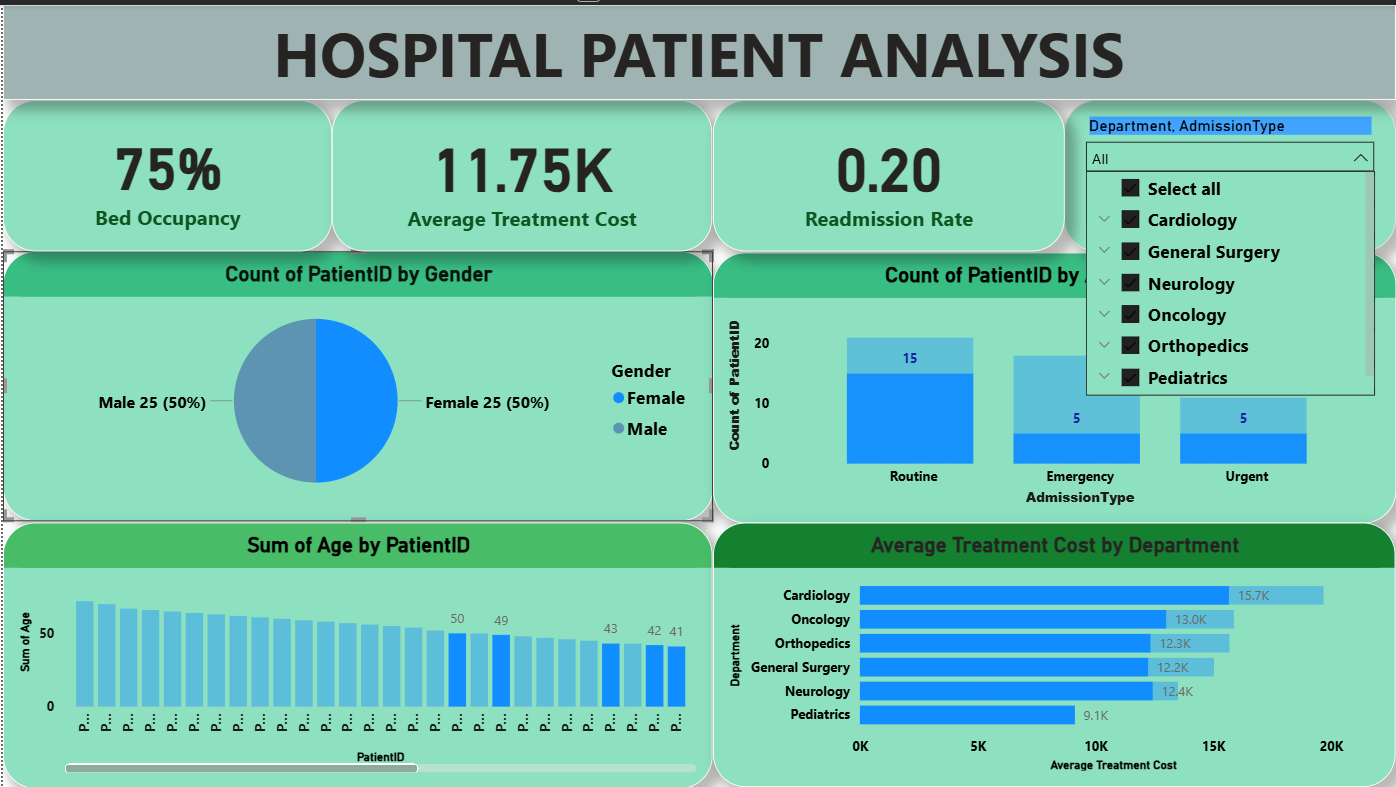

The page's visual inventory and layout, read from the dashboard file:
{"tool":"powerbi","page":{"name":"Page 1","canvas":[1280,720],"ordinal":0},"visuals":[{"type":"pieChart","fields":{"Y":["CountNonNull(HospitalRecords.PatientID)"],"Category":["HospitalRecords.Gender"]},"box":[0,226.3,652.5,248.1],"z":0},{"type":"columnChart","fields":{"Category":["HospitalRecords.PatientID"],"Y":["Sum(HospitalRecords.Age)"]},"box":[0,475.5,652,245],"z":1000},{"type":"clusteredColumnChart","fields":{"Category":["HospitalRecords.AdmissionType"],"Y":["CountNonNull(HospitalRecords.PatientID)"]},"box":[652,226.9,628,248.6],"z":2000},{"type":"barChart","fields":{"Category":["HospitalRecords.Department"],"Y":["HospitalRecords.Average Treatment Cost"]},"box":[652.5,475.6,627.2,243.5],"z":3000},{"type":"card","fields":{"Values":["HospitalRecords.Bed Occupancy"]},"box":[0,87.7,302.6,139.3],"z":4000},{"type":"slicer","fields":{"Values":["HospitalRecords.Department","HospitalRecords.AdmissionType"]},"box":[975,87.7,305,139.3],"z":5000},{"type":"card","fields":{"Values":["HospitalRecords.Average Treatment Cost"]},"box":[302.6,87.7,349.4,139.3],"z":6000},{"type":"card","fields":{"Values":["HospitalRecords.Readmission Rate"]},"box":[652,87.7,323,139.3],"z":7000},{"type":"textbox","box":[0,0,1279.6,87.3],"z":8000}]}

Visuals, with their boxes in screenshot pixels (x1, y1, x2, y2), scaled from the page's 1280x720 canvas onto the 1396x787 screenshot:
pieChart - CountNonNull(HospitalRecords.PatientID) x HospitalRecords.Gender: {"x1": 0, "y1": 247, "x2": 712, "y2": 519}
columnChart - HospitalRecords.PatientID x Sum(HospitalRecords.Age): {"x1": 0, "y1": 520, "x2": 711, "y2": 786}
clusteredColumnChart - HospitalRecords.AdmissionType x CountNonNull(HospitalRecords.PatientID): {"x1": 711, "y1": 248, "x2": 1395, "y2": 520}
barChart - HospitalRecords.Department x HospitalRecords.Average Treatment Cost: {"x1": 712, "y1": 520, "x2": 1395, "y2": 786}
card - HospitalRecords.Bed Occupancy: {"x1": 0, "y1": 96, "x2": 330, "y2": 248}
slicer - HospitalRecords.Department x HospitalRecords.AdmissionType: {"x1": 1063, "y1": 96, "x2": 1395, "y2": 248}
card - HospitalRecords.Average Treatment Cost: {"x1": 330, "y1": 96, "x2": 711, "y2": 248}
card - HospitalRecords.Readmission Rate: {"x1": 711, "y1": 96, "x2": 1063, "y2": 248}
textbox: {"x1": 0, "y1": 0, "x2": 1395, "y2": 95}
